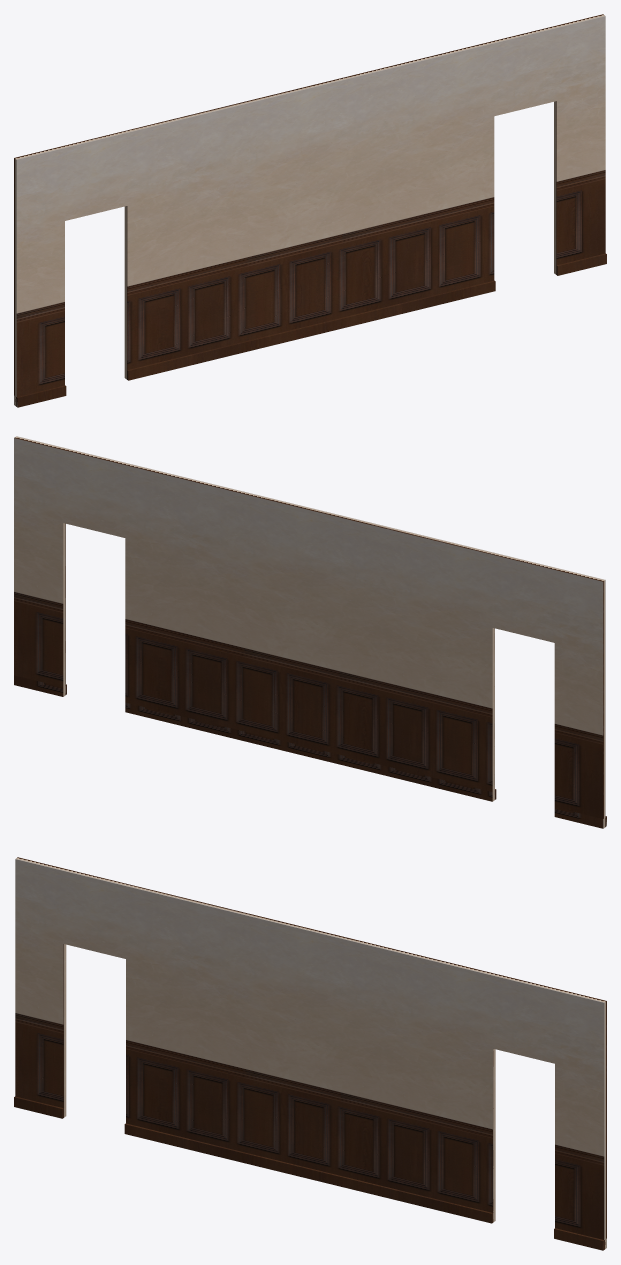
Rendered from Wall 1.FBX.
3 views of the same model, one above another, from view 1: azimuth 30°, elevation 25°; view 2: azimuth 150°, elevation 25°; view 3: azimuth 330°, elevation 25° (orthographic).
Parts seen in each view (by area): view 1: wall 1; view 2: wall 1; view 3: wall 1.
Boxes of the visible parts, x1,y1,x2,y2 form: wall 1: [14, 14, 606, 407]; wall 1: [14, 436, 606, 828]; wall 1: [14, 857, 606, 1250].
Size of the model in its own units: 11629 by 4659 by 129.
Materials: 1 (1 with a texture image).
